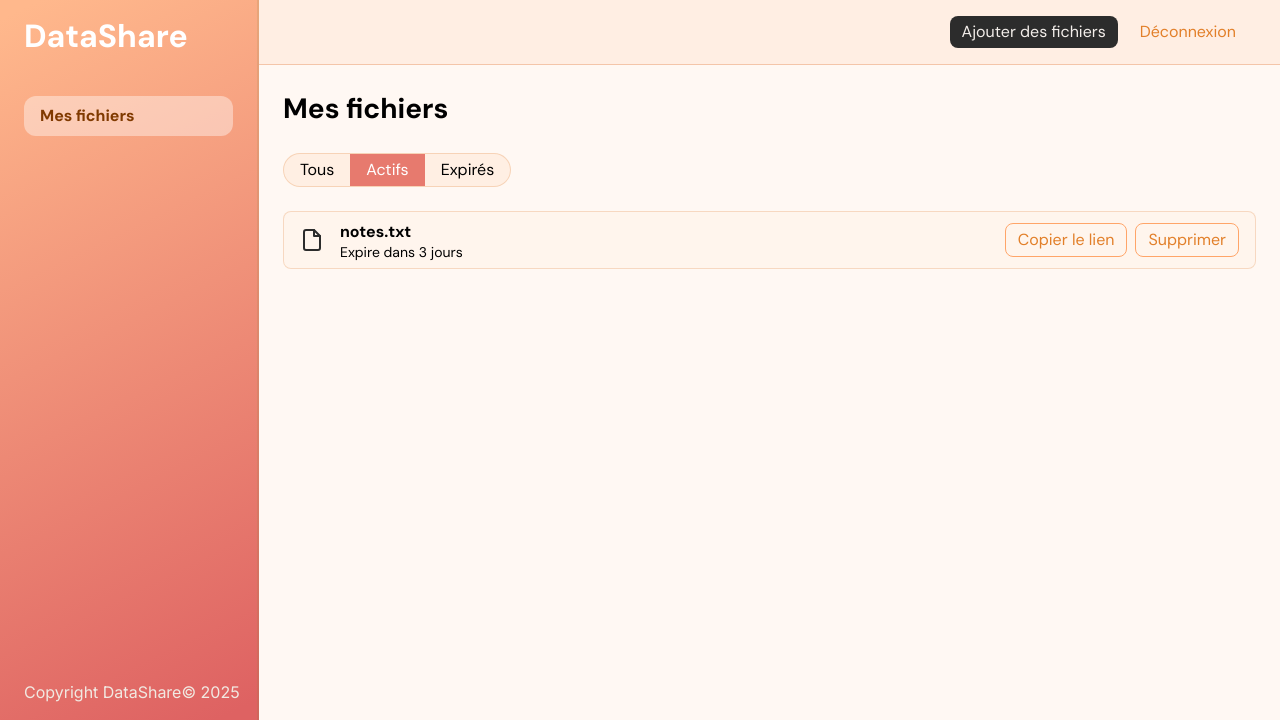
Scenario: MyFiles › copie le lien de partage front dans le presse-papiers
Expected: the text "notes.txt" is shown, [340, 221, 411, 242]
Click the button with aria-label "Copier le lien de notes.txt" at (1066, 240), box [1005, 223, 1128, 257]
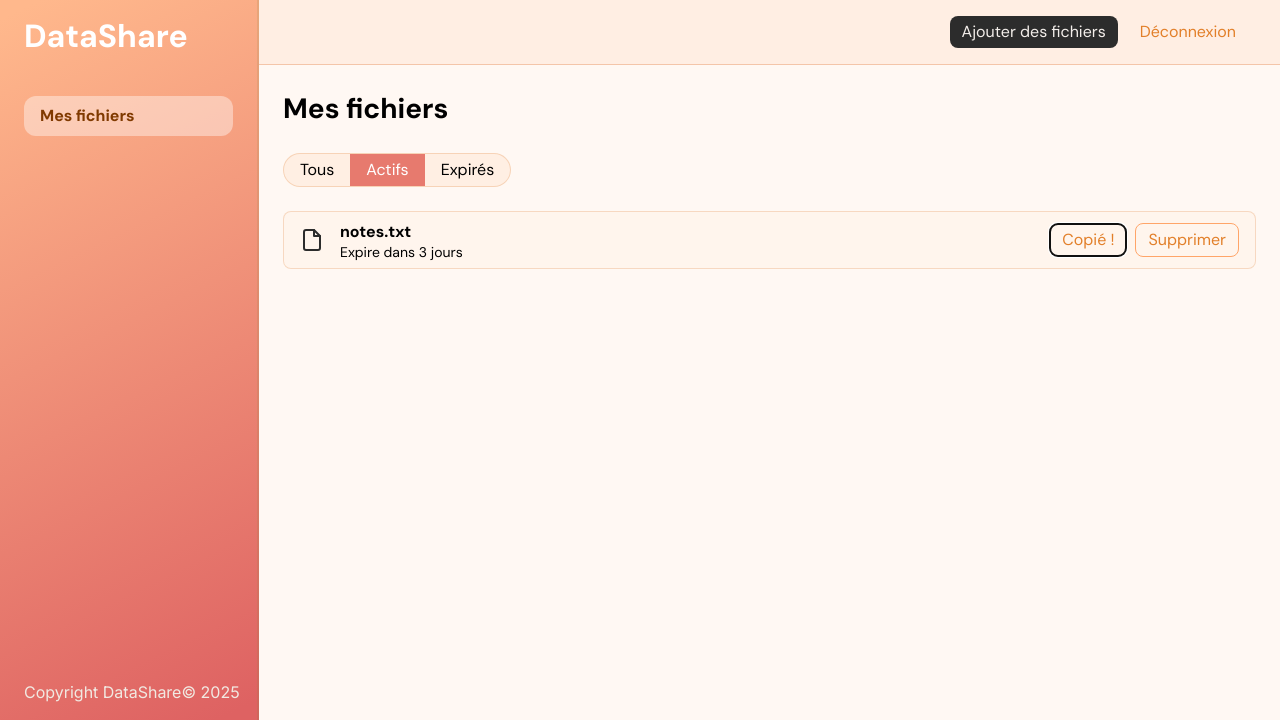
Expected: the button "Copié !" is shown, [1049, 223, 1128, 257]
